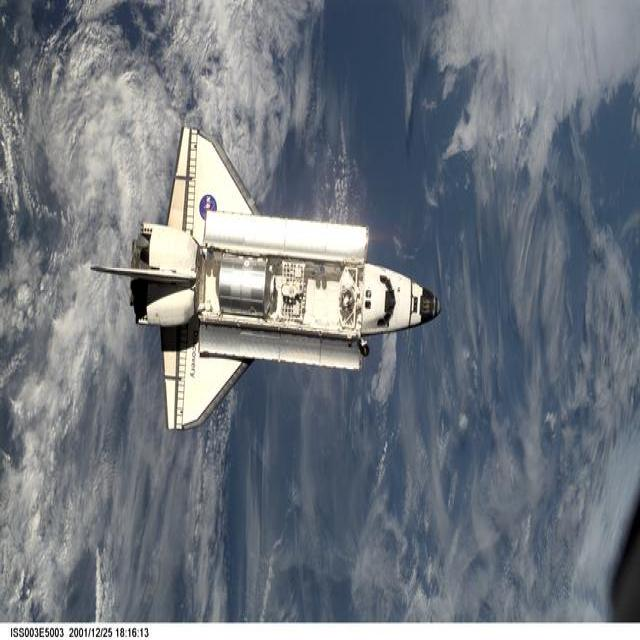satellite: (92, 126, 440, 429)
